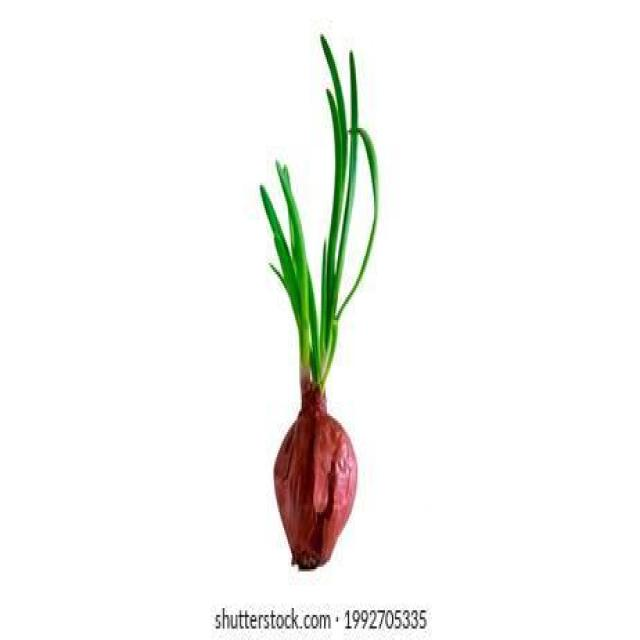Onion: (259, 32, 381, 382), (269, 384, 359, 581)
